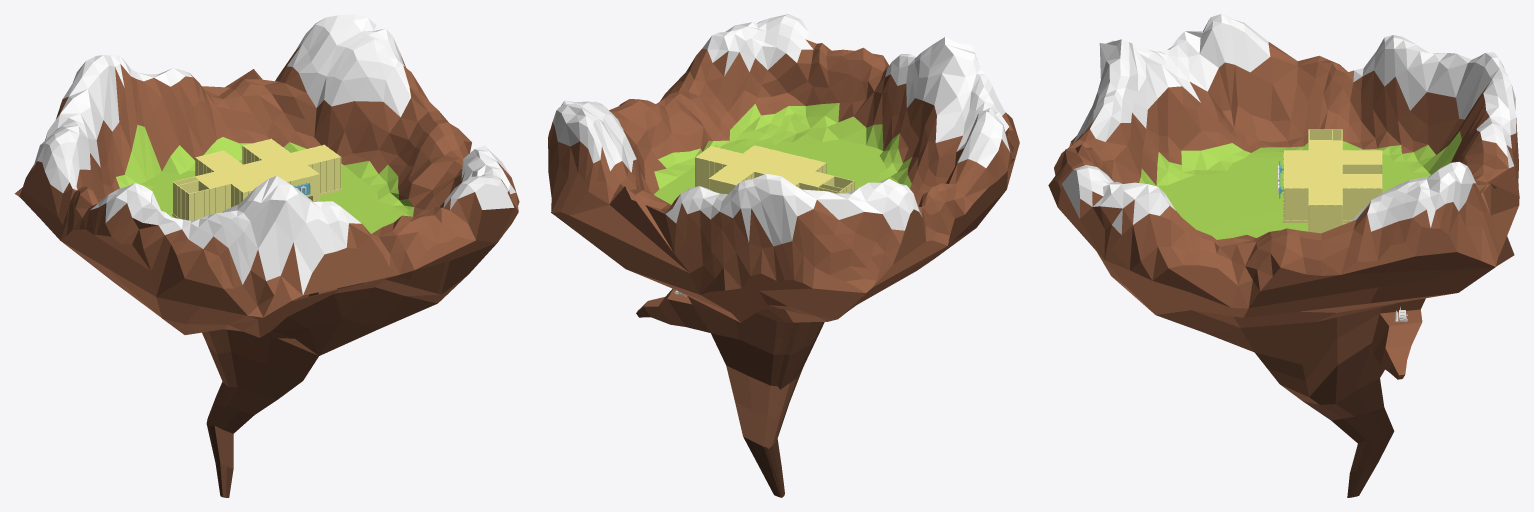
Rendered from terrain2.glb.
3 renders of one model, left to right at view 1: azimuth 30°, elevation 25°; view 2: azimuth 150°, elevation 25°; view 3: azimuth 270°, elevation 25°, orthographic. The views are drawn at different scales.
Parts seen in each view (by area): view 1: Terrain; view 2: Terrain; view 3: Terrain.
Boxes of the visible parts, bbox=[...] form: Terrain: bbox=[14, 14, 519, 497]; Terrain: bbox=[548, 14, 1019, 497]; Terrain: bbox=[1048, 14, 1519, 497].
Size of the model in its own units: 35.52 by 35.74 by 35.66.
Materials: 1 (1 with a texture image).
